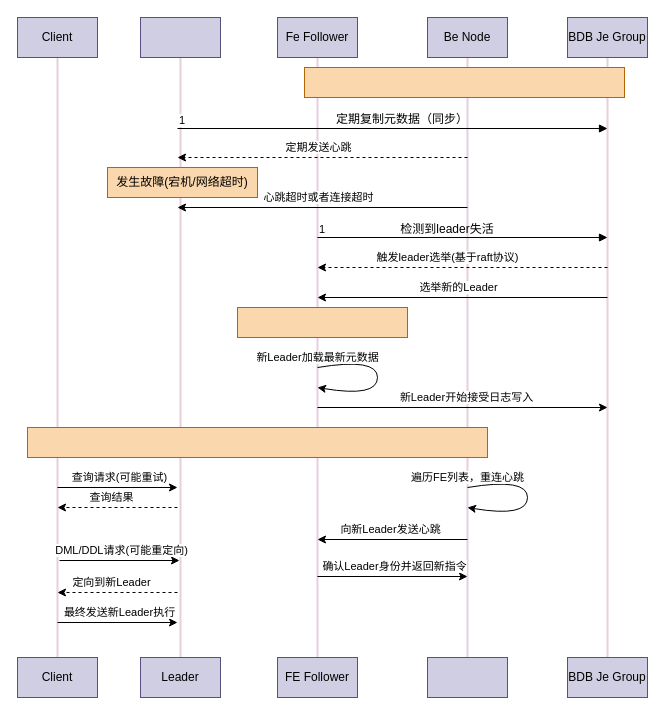
The diagram is 665 pixels wide and 715 high, and some of its shapes have lost their labels. The shapes that lost their labels are listed below. From the top down, each one's box as (x1, y1, x2, y2) in pixels, then its label:
(140, 16, 220, 58): Old Fe Leader
(304, 66, 624, 98): 1. 故障检测与Leader选举
(236, 306, 408, 338): 2. 新Leader上任与元数据同步
(26, 426, 488, 458): 3. 集群感知与平滑过渡
(426, 656, 508, 698): BE
